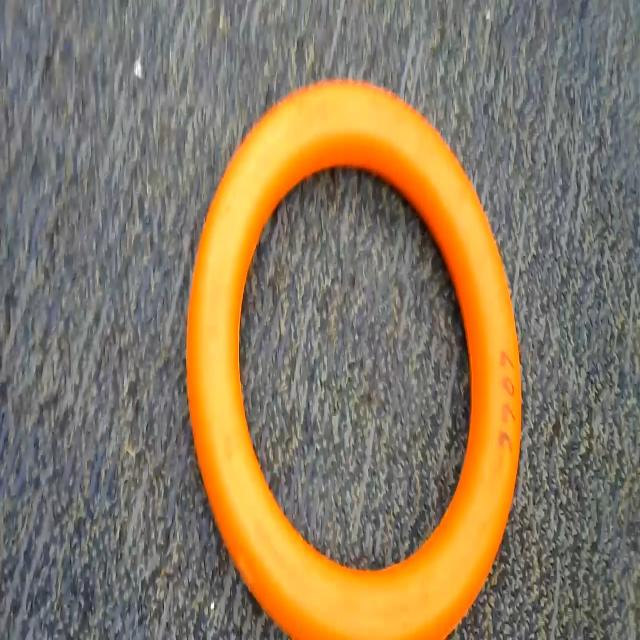note: (159, 51, 580, 640)
